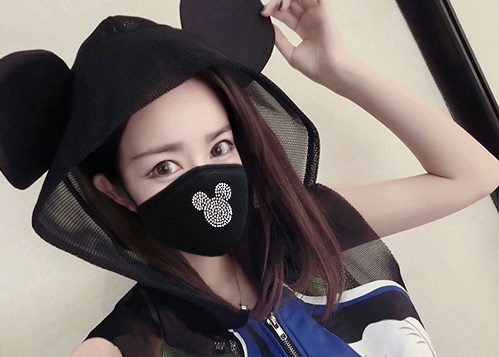face_mask: (128, 95, 250, 252)
